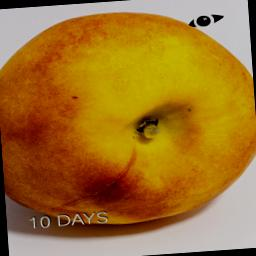Peach Unripe: (0, 2, 256, 234)
